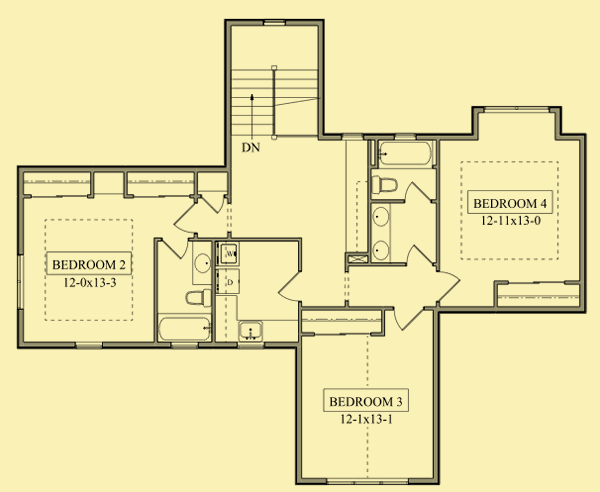door: (273, 270, 303, 304), (392, 305, 424, 335), (437, 266, 462, 302), (171, 202, 196, 235), (162, 237, 193, 261), (403, 180, 432, 205), (404, 244, 433, 269), (199, 192, 228, 216)
large_sink: (183, 287, 213, 312), (371, 174, 400, 198)
sink: (238, 320, 264, 341)
small_sink: (370, 203, 393, 264), (191, 242, 212, 286)
stairs: (229, 24, 320, 157)
tub: (154, 314, 212, 342), (377, 141, 431, 171)
window: (325, 475, 413, 487), (481, 103, 552, 116), (15, 252, 26, 312), (71, 340, 103, 350)
